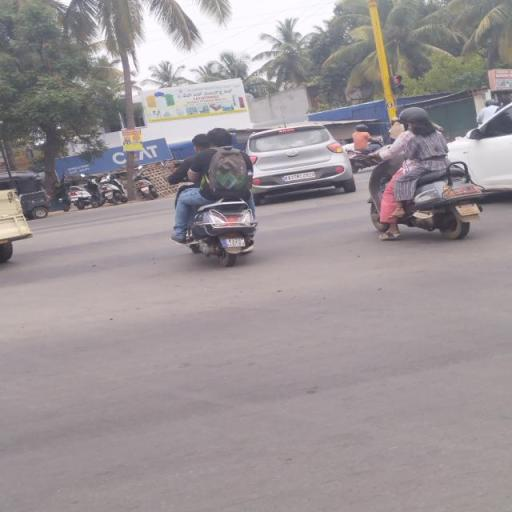bike: (162, 124, 273, 268)
numberplate: (221, 236, 245, 248)
withouthelmet: (210, 128, 231, 147), (193, 134, 209, 150)
